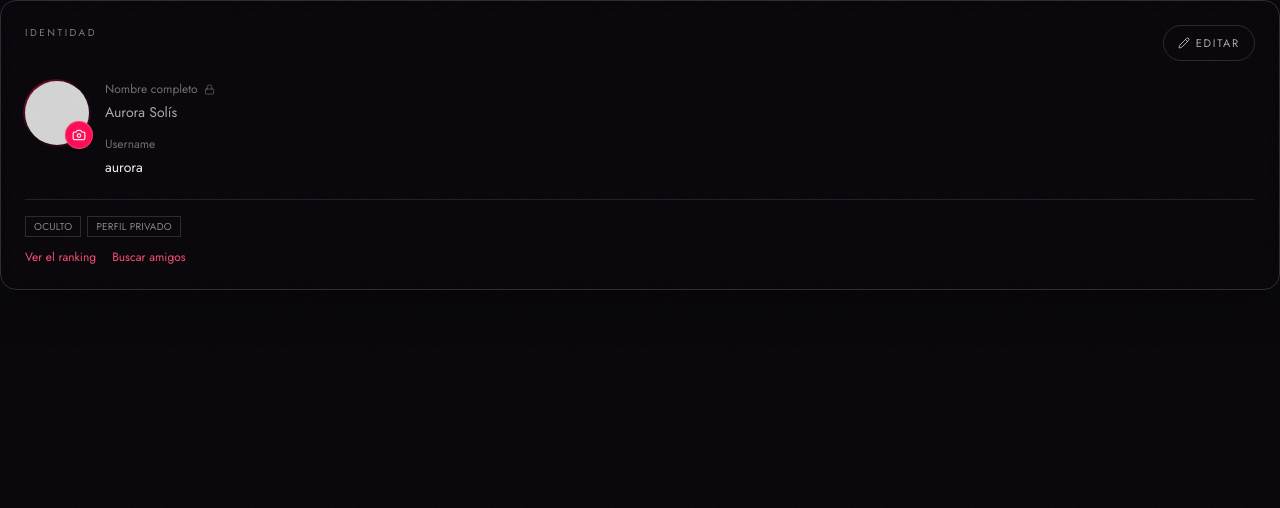
Test case: IdentitySection › inline editing › cancels with Escape and returns focus to the Edit button
Click the button with aria-label "editar username" at (1209, 43), box [1163, 25, 1255, 61]
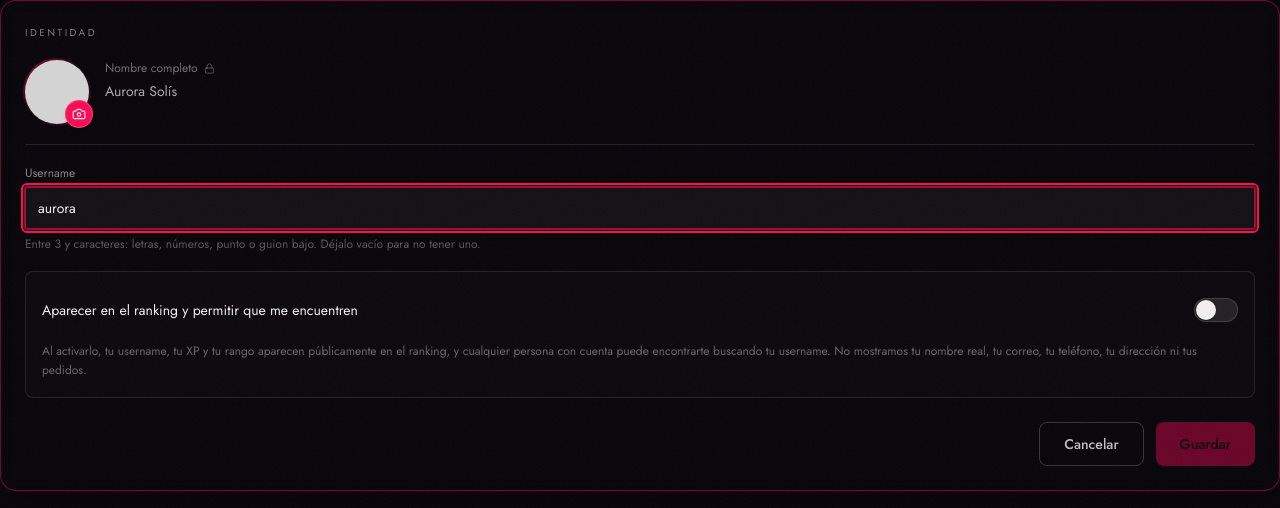
Type "xyz" into the field labelled "Username" at (640, 208), box [25, 187, 1255, 229]
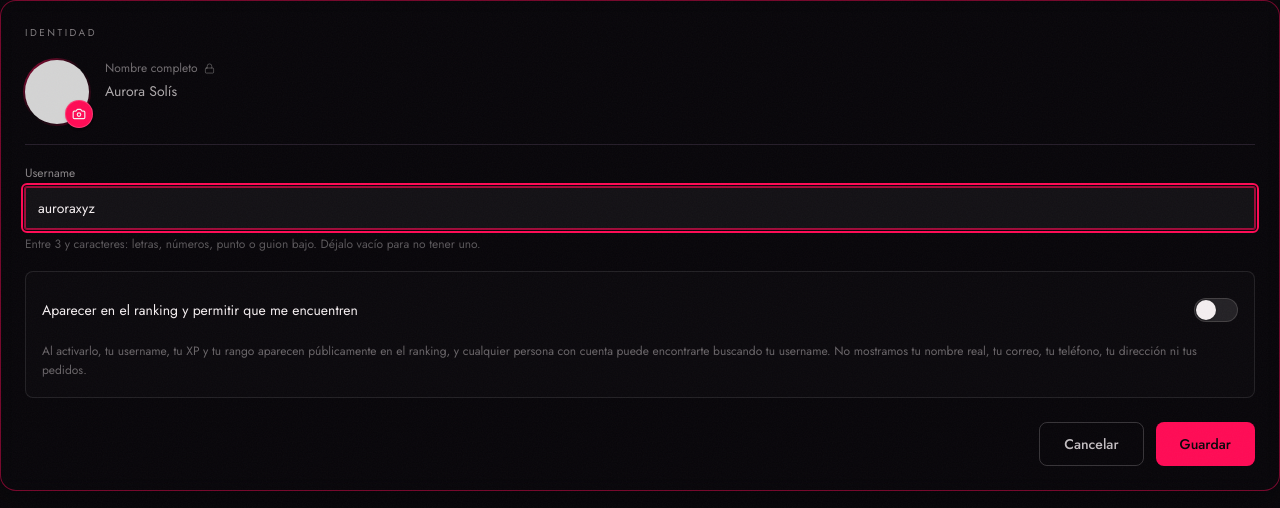
Press Escape
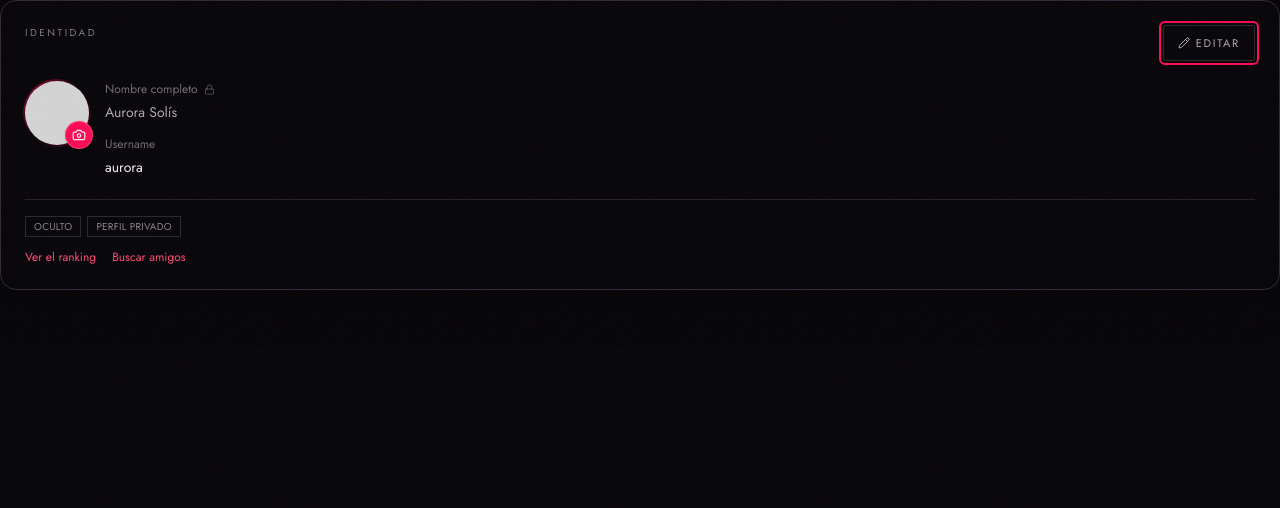
Expected: the text "aurora" is shown, [105, 157, 143, 177]
